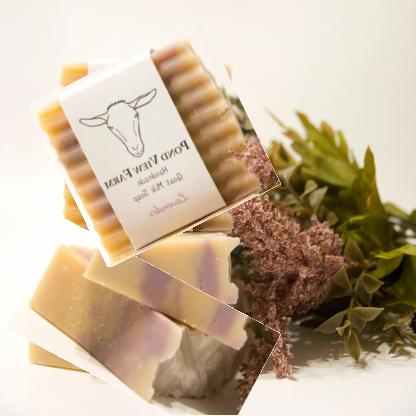soap: (44, 38, 266, 252), (13, 243, 274, 415)
